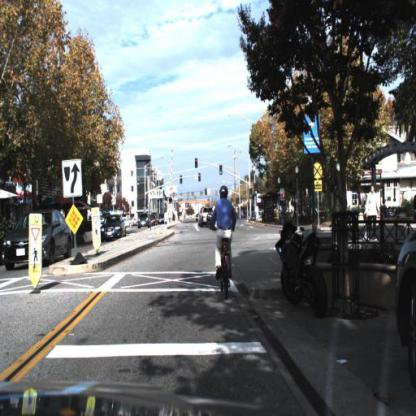biker: (213, 181, 236, 298)
car: (2, 206, 74, 276), (102, 216, 128, 246), (198, 203, 216, 231), (137, 213, 151, 231)
pedestrian: (363, 184, 381, 246)
trafficLight-Green: (219, 160, 227, 175)
trafficLight-Red: (194, 156, 199, 173)
